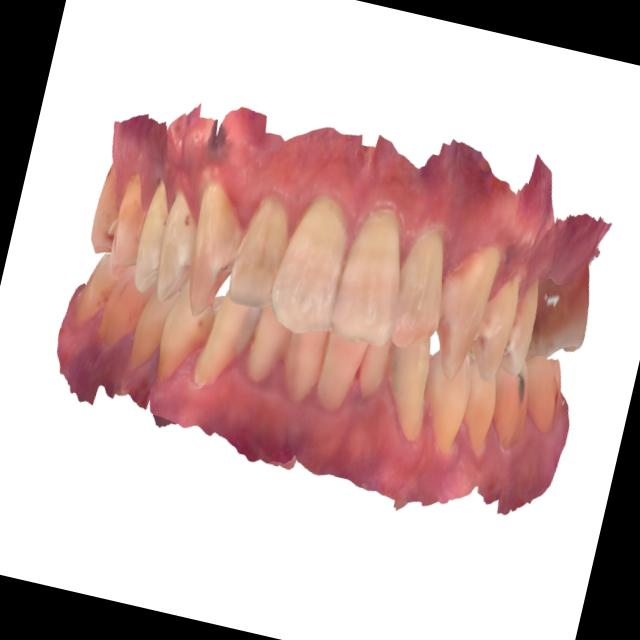tooth: (315, 185, 427, 362), (255, 179, 369, 351), (164, 155, 265, 334), (415, 221, 511, 392), (376, 204, 469, 364), (214, 180, 304, 322), (400, 328, 488, 467), (518, 240, 607, 375), (366, 318, 450, 460), (140, 167, 215, 315), (296, 298, 376, 433), (185, 277, 266, 400), (469, 335, 547, 462), (461, 252, 531, 392), (142, 275, 220, 399), (119, 165, 186, 305), (95, 155, 161, 292), (441, 345, 512, 472), (505, 337, 579, 446), (490, 265, 555, 387), (86, 256, 151, 372), (270, 304, 335, 417), (63, 236, 124, 348), (117, 276, 177, 384), (79, 157, 135, 266), (238, 296, 297, 393), (346, 330, 397, 414)
